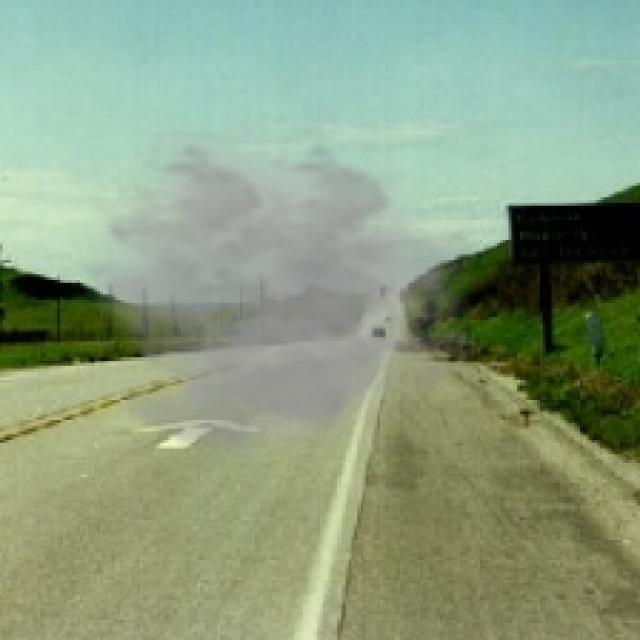Smoke: (74, 131, 483, 483)
